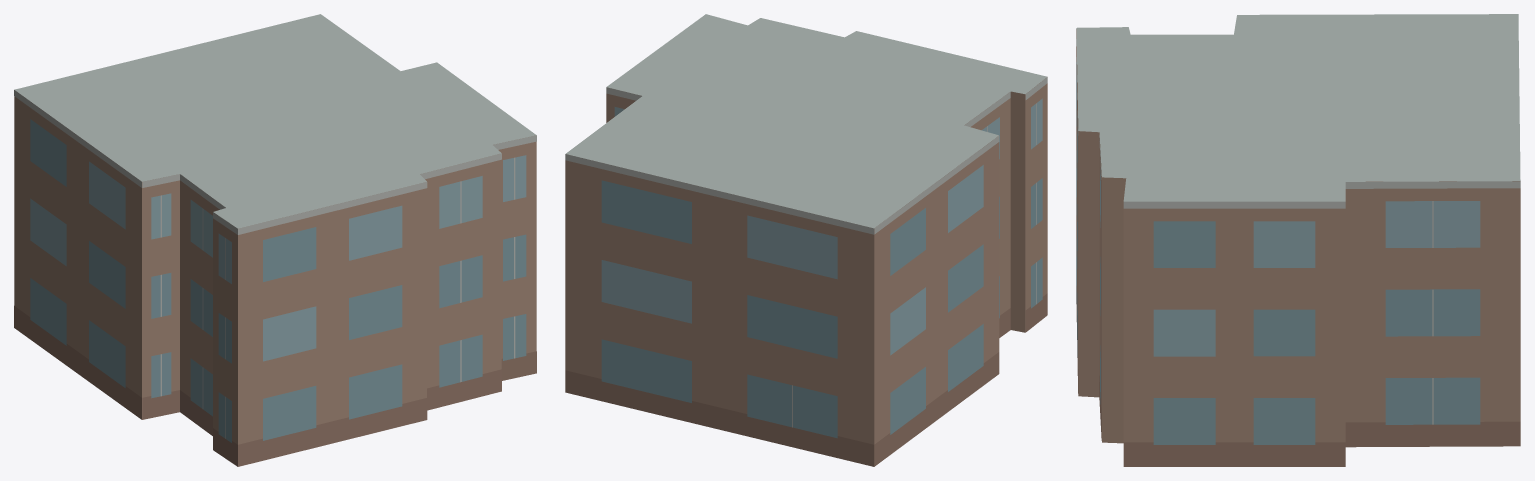
The model's file is survey-upis-32975439.glb.
3 views of the same model, side by side, from view 1: azimuth 30°, elevation 25°; view 2: azimuth 150°, elevation 25°; view 3: azimuth 270°, elevation 25° (orthographic). The views are drawn at different scales.
Visible parts, largest first — view 1: survey-upis-32975439.tmp; view 2: survey-upis-32975439.tmp; view 3: survey-upis-32975439.tmp.
Boxes of the visible parts, box(x1,y1,x2,y2) form: survey-upis-32975439.tmp: box(14, 14, 536, 466); survey-upis-32975439.tmp: box(565, 14, 1047, 466); survey-upis-32975439.tmp: box(1076, 14, 1520, 466).
Size of the model in its own units: 13.9 by 9.15 by 13.9.
